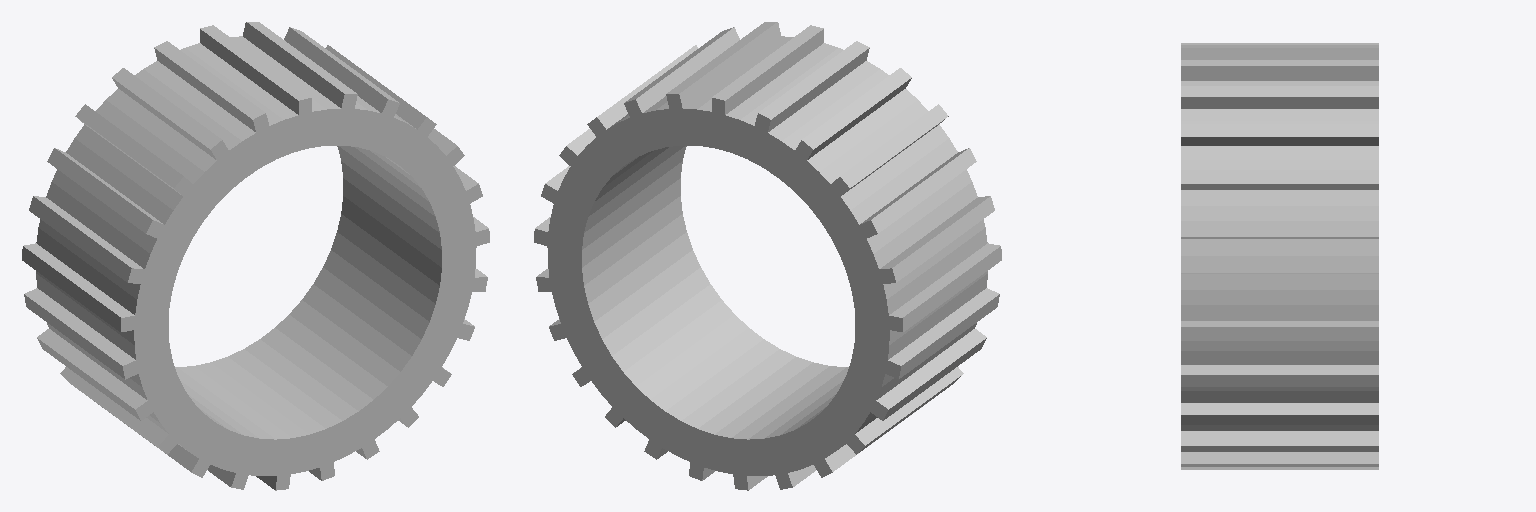
File: viper_simplewheel.obj
3 renders of one model, left to right at view 1: azimuth 30°, elevation 25°; view 2: azimuth 150°, elevation 25°; view 3: azimuth 270°, elevation 25°, orthographic.
Visible parts, largest first — view 1: viper_simplewheel; view 2: viper_simplewheel; view 3: viper_simplewheel.
Boxes of the visible parts, x1,y1,x2,y2 form: viper_simplewheel: [22, 22, 489, 490]; viper_simplewheel: [534, 22, 1001, 490]; viper_simplewheel: [1181, 43, 1378, 469].
Bounding box in the file's own units: 0.5398 × 0.5387 × 0.25.